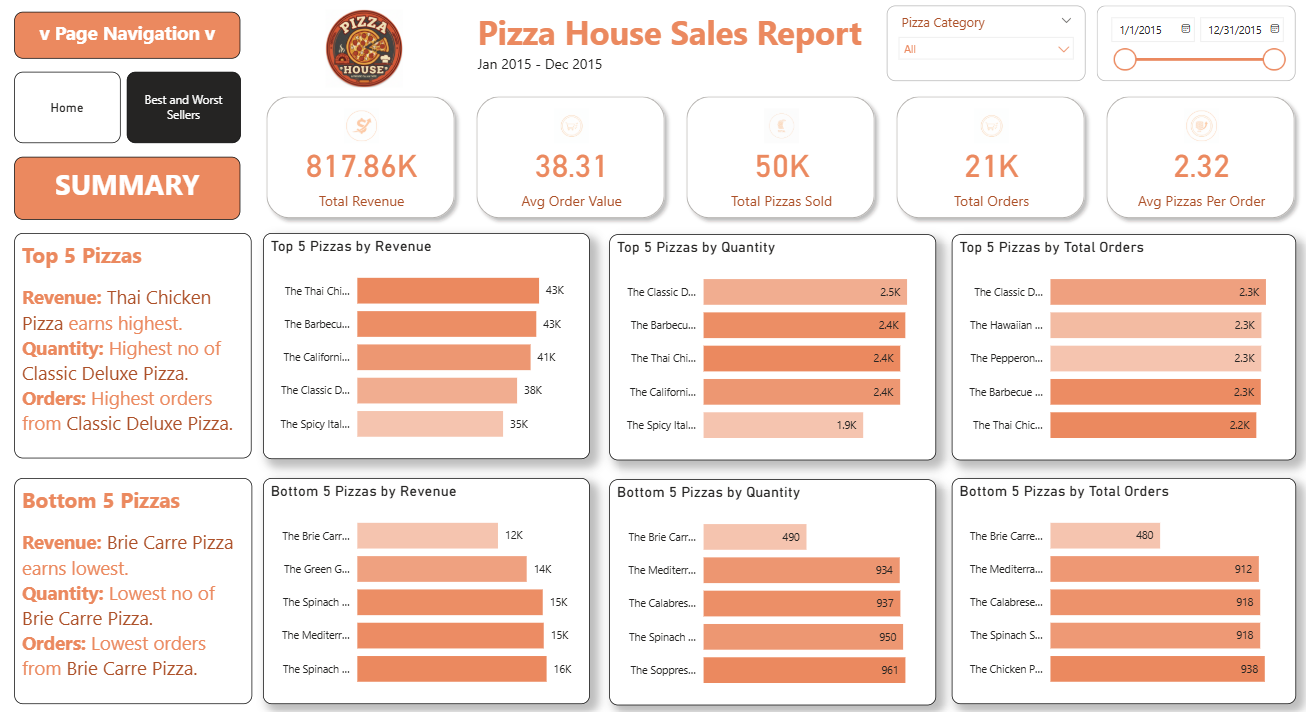

What the dashboard file says about the page in this screenshot:
{"tool":"powerbi","page":{"name":"Best and Worst Sellers","canvas":[1500,820],"ordinal":1},"visuals":[{"type":"cardVisual","fields":{"Data":["pizza_sales.Total Revenue","pizza_sales.Avg Order Value","pizza_sales.Total Pizzas Sold","pizza_sales.Total Orders","pizza_sales.Avg Pizzas Per Order"]},"box":[290,95,1210,173.8],"z":0},{"type":"slicer","fields":{"Values":["pizza_sales.pizza_category"]},"box":[1016.2,8.8,227.5,86.2],"z":6000},{"type":"slicer","fields":{"Values":["pizza_sales.order_date"]},"box":[1256.2,8.8,227.5,86.2],"z":7000},{"type":"textbox","box":[543.3,8.3,455,86.7],"z":8000},{"type":"image","box":[315,8.3,205,98.3],"z":9000},{"type":"textbox","box":[18.3,181.7,258.3,71.7],"z":10000},{"type":"textbox","box":[18.9,268.9,271.1,257.8],"z":11000},{"type":"textbox","box":[18.3,548.3,271.7,258.3],"z":12000},{"type":"barChart","title":"Top 5 Pizzas by Revenue","fields":{"Y":["pizza_sales.Total Revenue"],"Category":["pizza_sales.pizza_name"]},"box":[303.3,268.3,373.3,258.3],"z":12001},{"type":"barChart","title":"Bottom 5 Pizzas by Revenue","fields":{"Y":["pizza_sales.Total Revenue"],"Category":["pizza_sales.pizza_name"]},"box":[303.3,548.3,373.3,258.3],"z":12002},{"type":"barChart","title":"Top 5 Pizzas by Quantity","fields":{"Category":["pizza_sales.pizza_name"],"Y":["pizza_sales.Total Pizzas Sold"]},"box":[698.3,270,373.3,258.3],"z":12003},{"type":"barChart","title":"Bottom 5 Pizzas by Quantity","fields":{"Category":["pizza_sales.pizza_name"],"Y":["pizza_sales.Total Pizzas Sold"]},"box":[698.7,550.3,373.3,258.3],"z":12004},{"type":"barChart","title":"Top 5 Pizzas by Total Orders","fields":{"Category":["pizza_sales.pizza_name"],"Y":["pizza_sales.Total Orders"]},"box":[1090,270,393.3,258.3],"z":12005},{"type":"barChart","title":"Bottom 5 Pizzas by Total Orders","fields":{"Category":["pizza_sales.pizza_name"],"Y":["pizza_sales.Total Orders"]},"box":[1090,548.3,393.3,258.3],"z":12006},{"type":"textbox","box":[18.8,16.2,258.8,53.8],"z":12007},{"type":"pageNavigator","box":[18.8,83.8,121.2,81.2],"z":12008},{"type":"pageNavigator","box":[147.5,83.8,130,81.2],"z":12009}]}

Visuals, with their boxes in screenshot pixels (x1, y1, x2, y2), scaled from the page's 1500x820 canvas onto the 1306x712 screenshot:
cardVisual - pizza_sales.Total Revenue x pizza_sales.Avg Order Value: pyautogui.locateOnScreen(252, 82, 1305, 233)
slicer - pizza_sales.pizza_category: pyautogui.locateOnScreen(885, 8, 1083, 82)
slicer - pizza_sales.order_date: pyautogui.locateOnScreen(1094, 8, 1292, 82)
textbox: pyautogui.locateOnScreen(473, 7, 869, 82)
image: pyautogui.locateOnScreen(274, 7, 453, 93)
textbox: pyautogui.locateOnScreen(16, 158, 241, 220)
textbox: pyautogui.locateOnScreen(16, 233, 252, 457)
textbox: pyautogui.locateOnScreen(16, 476, 252, 700)
"Top 5 Pizzas by Revenue" barChart: pyautogui.locateOnScreen(264, 233, 589, 457)
"Bottom 5 Pizzas by Revenue" barChart: pyautogui.locateOnScreen(264, 476, 589, 700)
"Top 5 Pizzas by Quantity" barChart: pyautogui.locateOnScreen(608, 234, 933, 459)
"Bottom 5 Pizzas by Quantity" barChart: pyautogui.locateOnScreen(608, 478, 933, 702)
"Top 5 Pizzas by Total Orders" barChart: pyautogui.locateOnScreen(949, 234, 1291, 459)
"Bottom 5 Pizzas by Total Orders" barChart: pyautogui.locateOnScreen(949, 476, 1291, 700)
textbox: pyautogui.locateOnScreen(16, 14, 242, 61)
pageNavigator: pyautogui.locateOnScreen(16, 73, 122, 143)
pageNavigator: pyautogui.locateOnScreen(128, 73, 242, 143)
